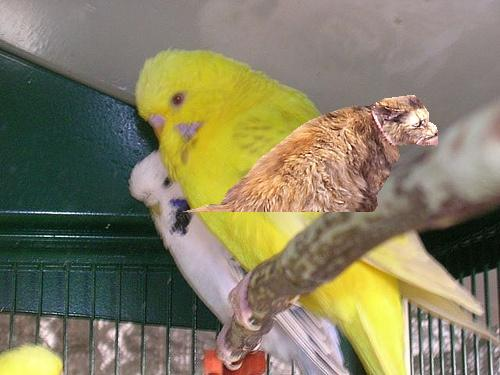tampered: (180, 96, 438, 212)
